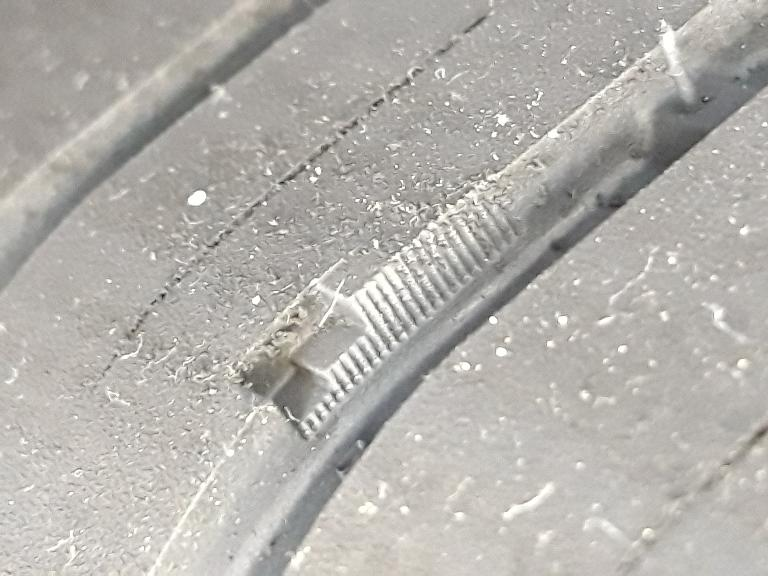temoin:50: (212, 250, 435, 459)
